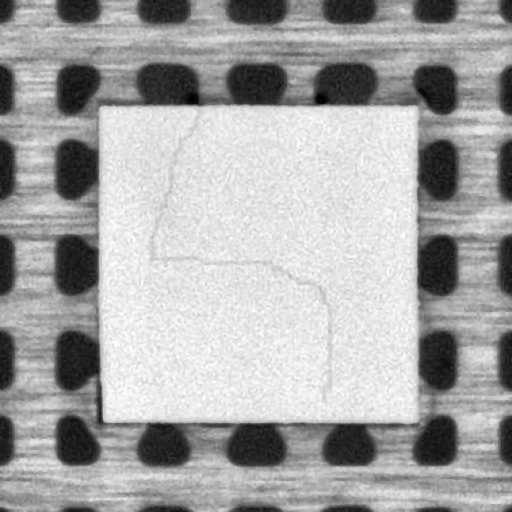DIE_CRACK: (148, 105, 332, 404)
